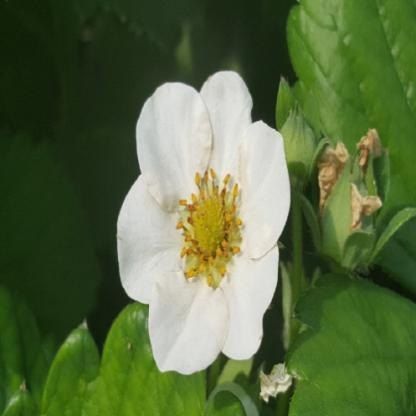Strawberry_Blossom_Blight: (169, 166, 245, 289)
